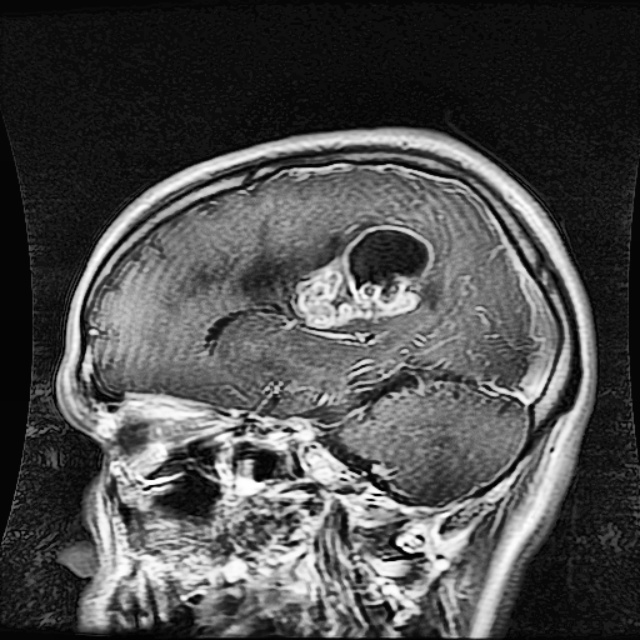Meningioma: (299, 225, 434, 329)
